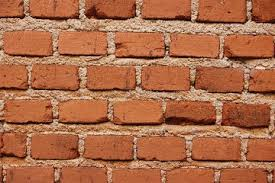brick: (116, 31, 165, 57), (140, 65, 188, 91), (170, 33, 219, 58), (168, 101, 217, 125), (137, 137, 186, 161), (224, 101, 271, 126), (198, 67, 243, 93), (87, 134, 132, 160), (60, 31, 108, 55), (225, 35, 274, 58), (31, 66, 80, 89), (192, 137, 241, 160), (32, 136, 78, 160), (114, 101, 162, 123), (86, 67, 136, 88), (60, 101, 107, 123), (199, 1, 247, 22), (4, 32, 52, 53), (5, 100, 52, 121), (5, 164, 56, 183), (141, 1, 191, 20), (29, 1, 81, 19), (60, 165, 108, 183), (86, 1, 136, 17), (112, 167, 161, 183), (167, 167, 216, 182), (221, 168, 268, 183), (247, 138, 275, 162), (1, 66, 27, 89), (249, 69, 275, 91), (1, 135, 27, 155), (254, 1, 275, 24), (1, 1, 23, 19)
